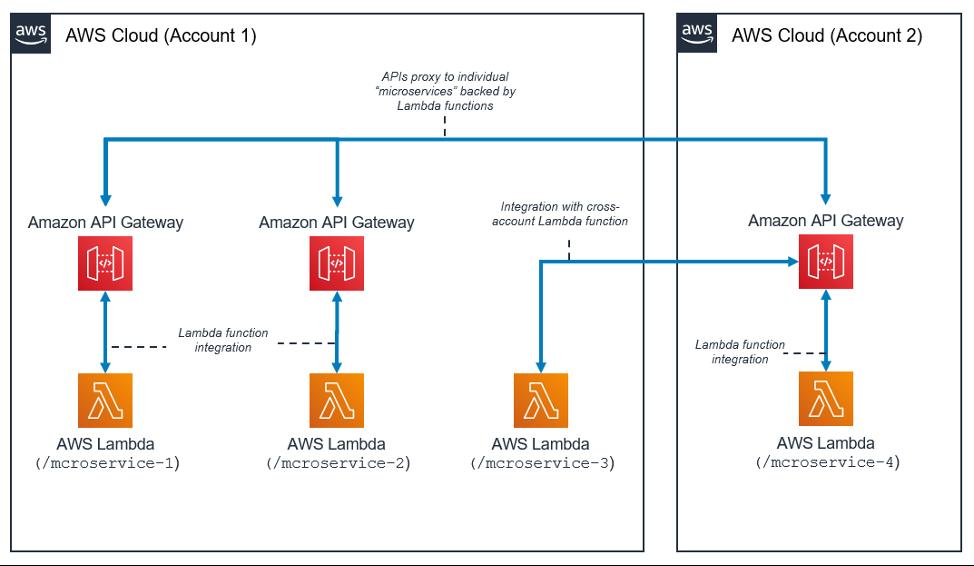API-Gateway: (307, 231, 369, 291), (796, 231, 857, 289), (77, 236, 134, 294)
Lambda: (797, 369, 856, 428), (77, 369, 137, 426), (309, 373, 366, 430), (514, 371, 570, 429)
aws: (9, 13, 54, 56), (677, 13, 717, 53)
